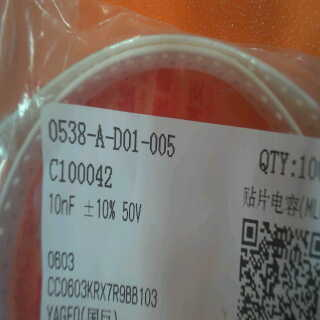10nF: (40, 189, 78, 221)
